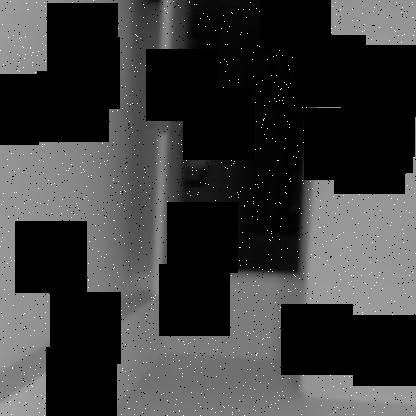Porte: (147, 1, 327, 298)
